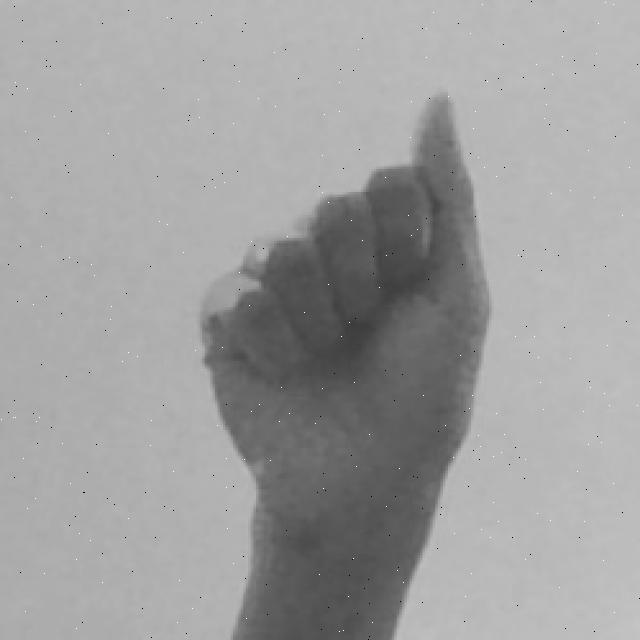A: (192, 84, 502, 640)
